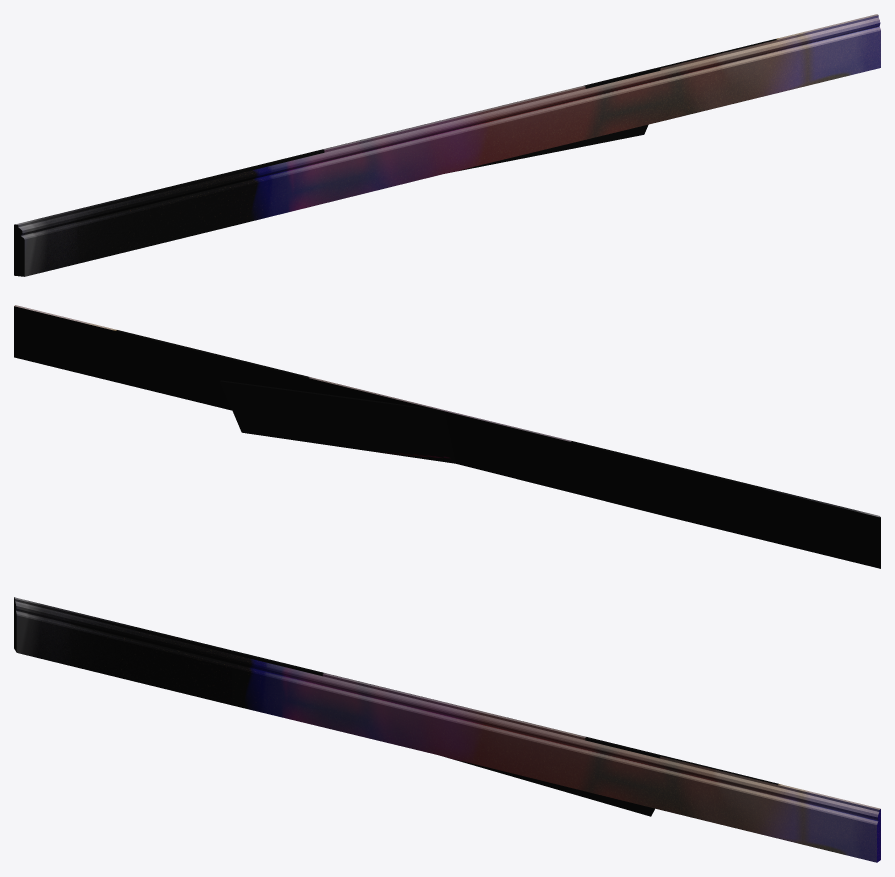
Rendered from baseboard_right.glb.
3 views of the same model, one above another, from view 1: azimuth 30°, elevation 25°; view 2: azimuth 150°, elevation 25°; view 3: azimuth 330°, elevation 25° (orthographic).
Parts seen in each view (by area): view 1: baseboard_right; view 2: baseboard_right; view 3: baseboard_right.
Part boxes in pixels (left/top/right/bottom): baseboard_right: left=14, top=14, right=880, bottom=276; baseboard_right: left=14, top=305, right=880, bottom=568; baseboard_right: left=14, top=597, right=880, bottom=862.
Bounding box in the file's own units: 32.4 × 2.36 × 0.6596.
1 material, 1 textured.
